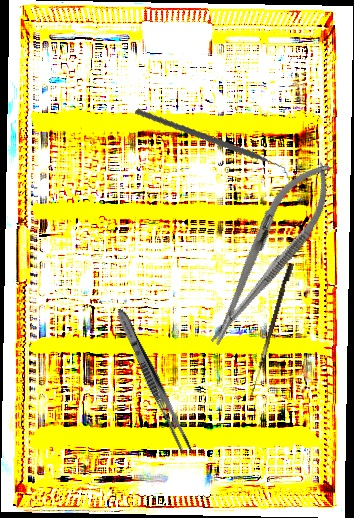Chopper: (134, 82, 291, 209)
Dressing Forceps: (111, 305, 196, 457)
Hook Surgical: (250, 262, 294, 400)
Needle Holder: (191, 150, 347, 356)
